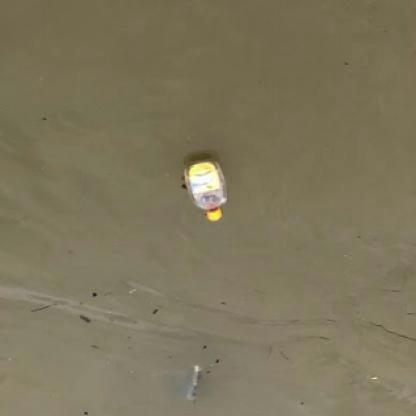Plastic: (185, 154, 230, 225)
